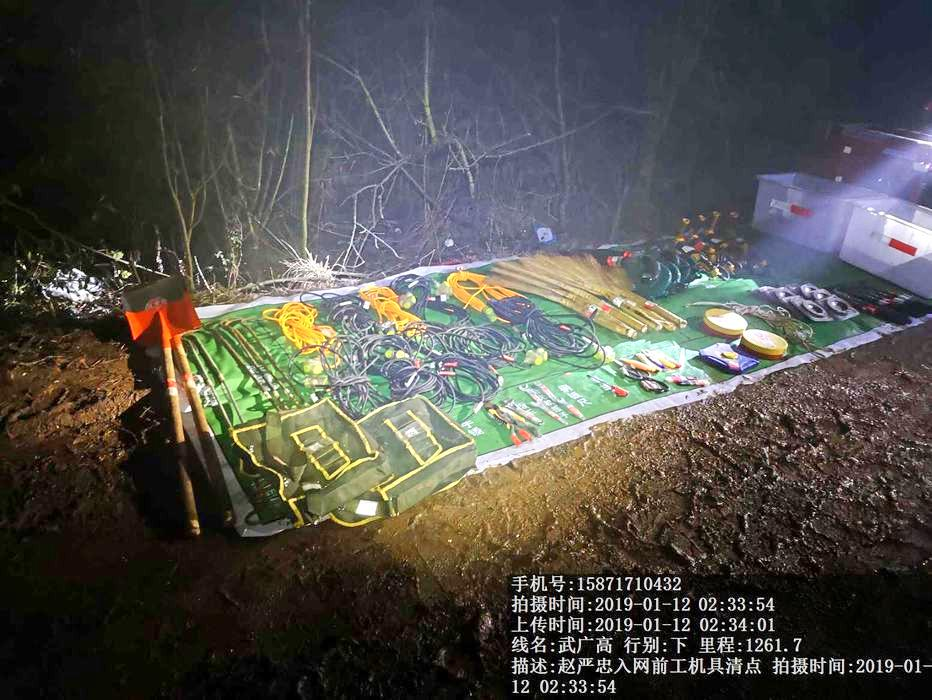DJ: (833, 112, 932, 190)
DX: (256, 296, 335, 357), (359, 276, 424, 336)
DZ: (674, 216, 713, 272)
GFJ: (595, 241, 687, 277)
GJB: (230, 402, 392, 527), (393, 396, 480, 513)
JC: (698, 339, 754, 375), (740, 322, 791, 359), (701, 307, 745, 337)
SB: (503, 261, 653, 332)
T: (844, 191, 932, 299), (747, 166, 862, 247)
TQ: (114, 278, 195, 490)
